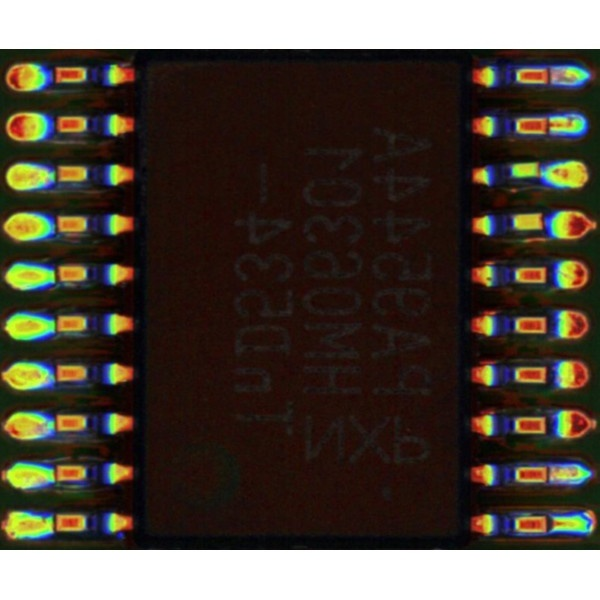Bad_podu: (539, 518, 567, 530), (540, 69, 565, 81), (536, 120, 562, 131), (537, 468, 565, 478)
